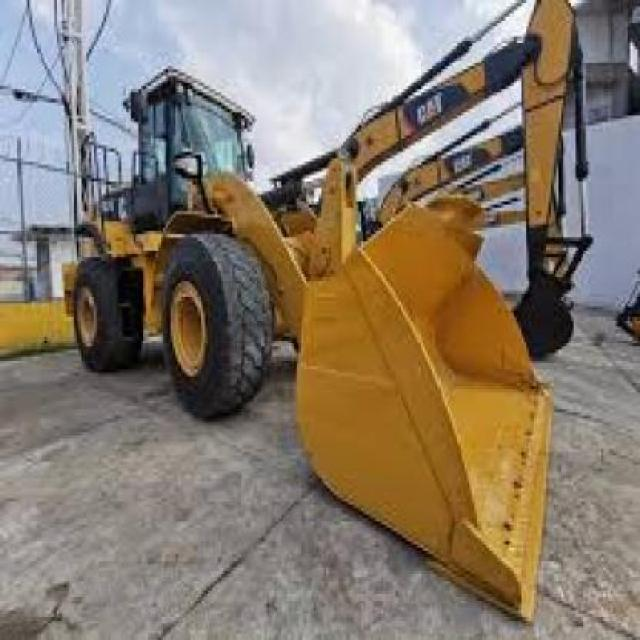buldozerpayloadergrader: (64, 60, 559, 618)
